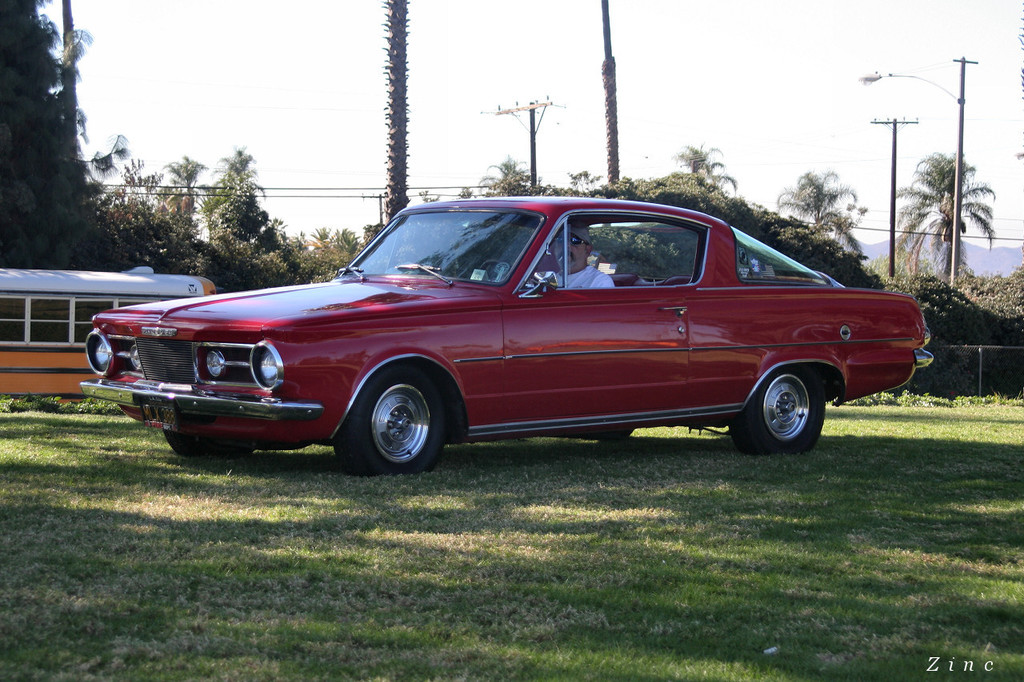Car: (74, 194, 939, 482)
